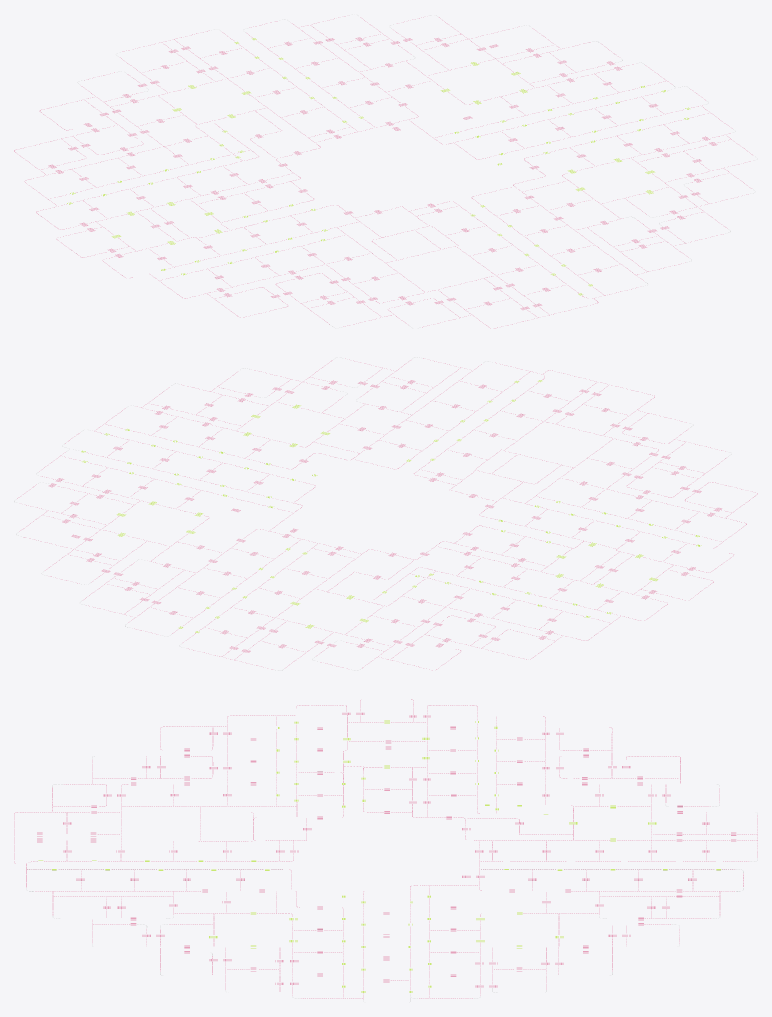
File: Markings_D4.fbx
3 renders of one model, top to bottom at view 1: azimuth 30°, elevation 25°; view 2: azimuth 150°, elevation 25°; view 3: azimuth 270°, elevation 25°, orthographic.
Bounding box in the file's own units: 231299 × 3.73 × 239622.
1 material, 1 textured.
